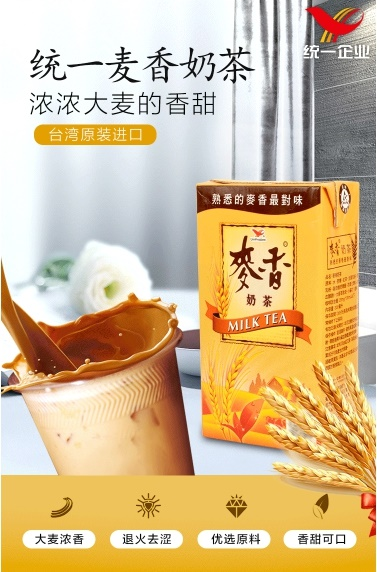milk tea: (194, 178, 359, 456)
